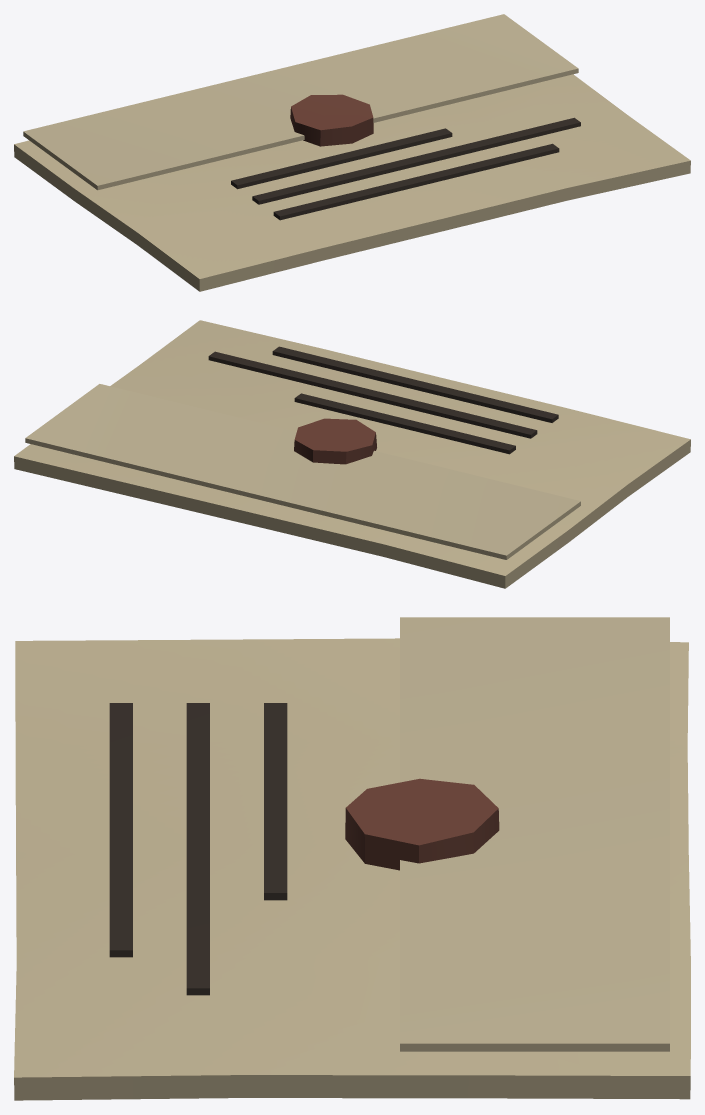
The model's file is ph_prop_letter.glb.
The picture shows the model from 3 angles, top to bottom: view 1: azimuth 30°, elevation 25°; view 2: azimuth 150°, elevation 25°; view 3: azimuth 270°, elevation 25°; orthographic projection. The views are drawn at different scales.
Parts seen in each view (by area): view 1: ph_prop_letter; view 2: ph_prop_letter; view 3: ph_prop_letter.
Boxes of the visible parts, x1,y1,x2,y2 form: ph_prop_letter: [14, 14, 690, 291]; ph_prop_letter: [14, 320, 690, 588]; ph_prop_letter: [14, 617, 690, 1100].
Bounding box in the file's own units: 0.1606 × 0.0127 × 0.1053.
